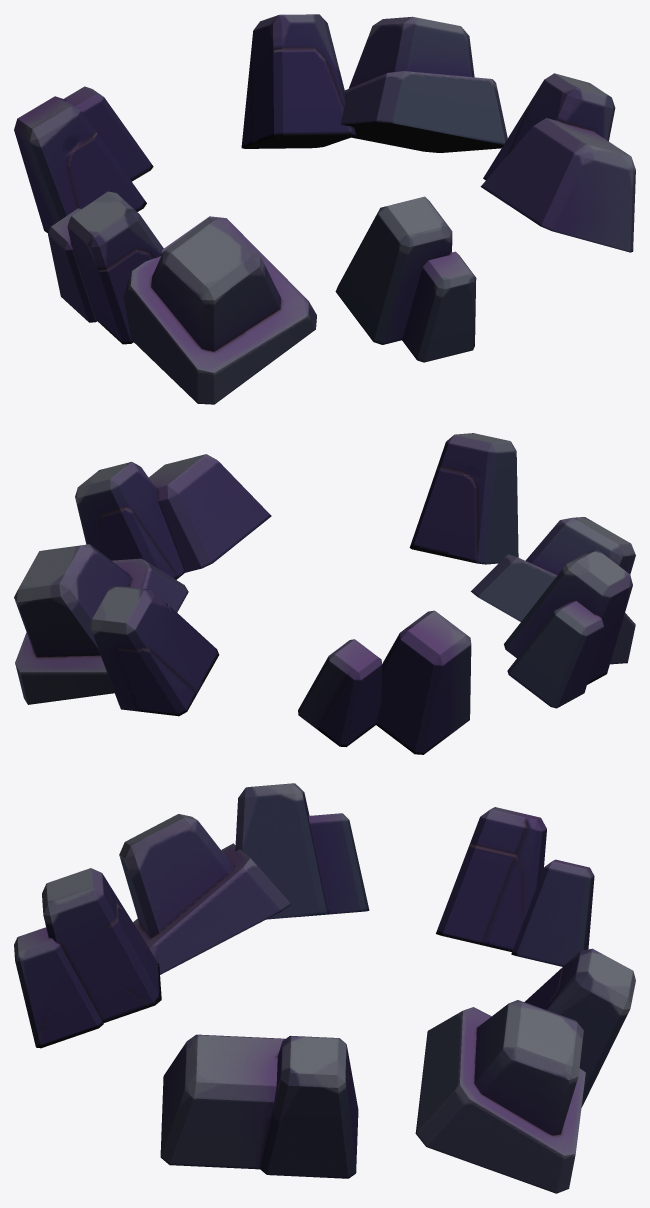
Rendered from Ore_Squished_A.fbx.
The picture shows the model from 3 angles, top to bottom: view 1: azimuth 30°, elevation 25°; view 2: azimuth 150°, elevation 25°; view 3: azimuth 270°, elevation 25°; orthographic projection. The views are drawn at different scales.
Parts seen in each view (by area): view 1: Ore_Squished_A; view 2: Ore_Squished_A; view 3: Ore_Squished_A.
Part boxes in pixels (<box>): Ore_Squished_A: <box>14,14,635,404</box>; Ore_Squished_A: <box>14,433,635,754</box>; Ore_Squished_A: <box>14,783,635,1193</box>.
Bounding box in the file's own units: 0.9944 × 0.3048 × 0.9281.
